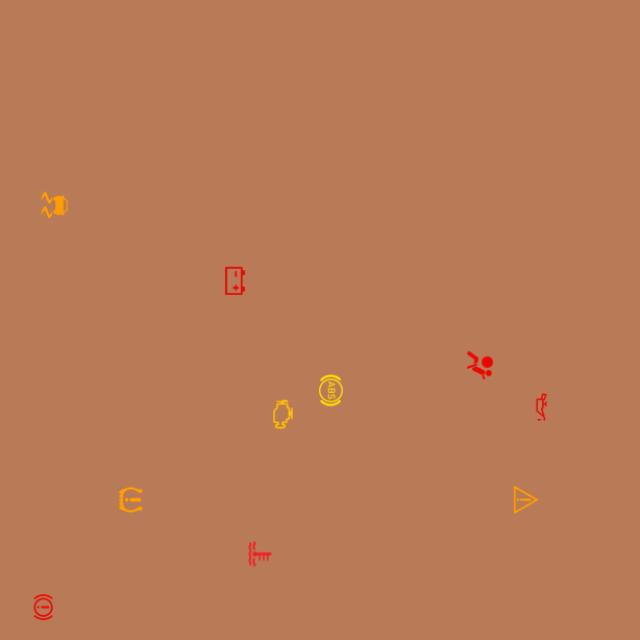Anti Lock Braking System: (314, 373, 348, 408)
Braking System Issue: (26, 590, 61, 624)
Charging System Issue: (218, 264, 252, 298)
Check Engine: (266, 397, 300, 432)
Electronic Stability Problem -ESP-: (37, 188, 72, 222)
Engine Overheating Warning Light: (243, 537, 277, 571)
Low Engine Oil Warning Light: (524, 390, 559, 424)
Low Tire Pressure Warning Light: (114, 483, 148, 517)
Master warning light: (509, 483, 543, 517)
SRS-Airbag: (463, 348, 497, 383)
